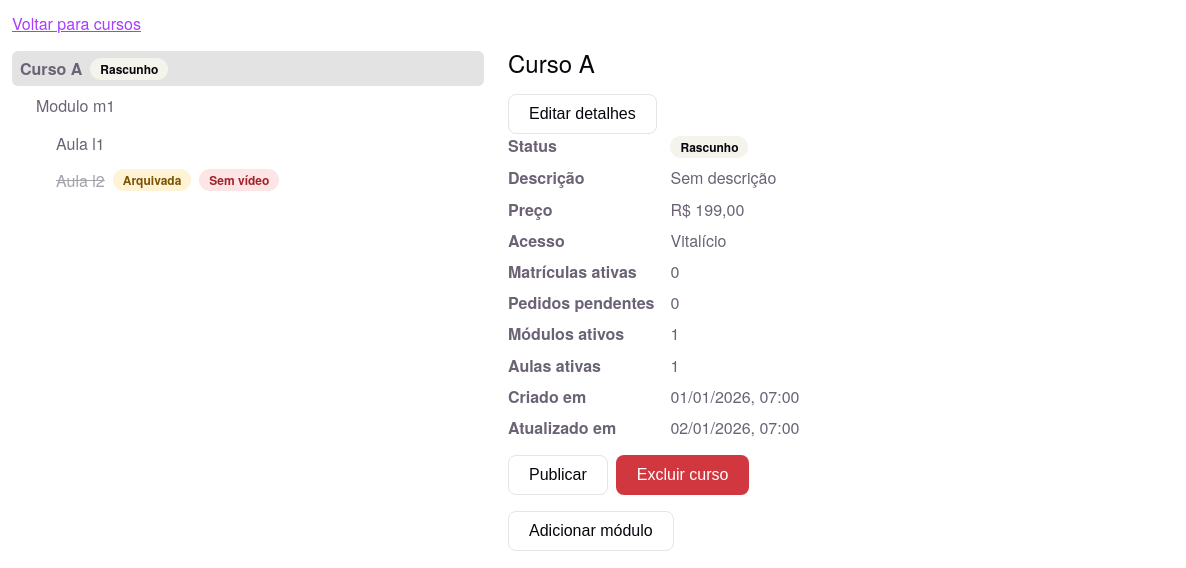
Test: lesson video action › offers "Substituir vídeo" when the lesson has a video and "Definir vídeo" when it has none
Click the list item "Aula l1" at (80, 143), box [56,132,105,155]
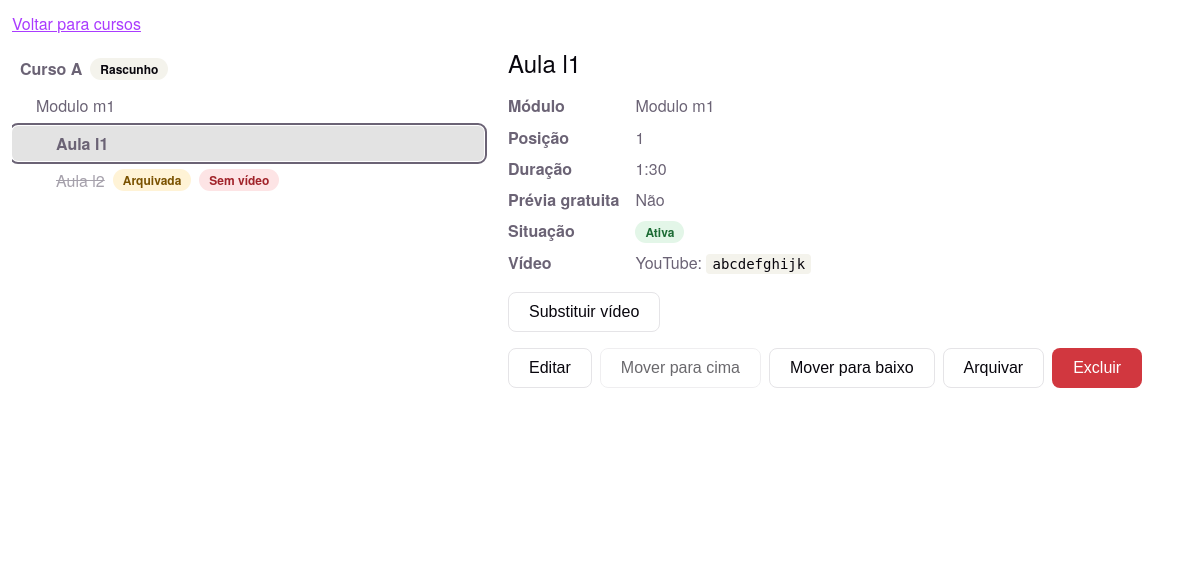
Expected: the button "Substituir vídeo" is shown, [508,292,660,332]
Click the list item "Aula l2 Arquivada Sem vídeo" at (168, 180), box [56,169,279,192]
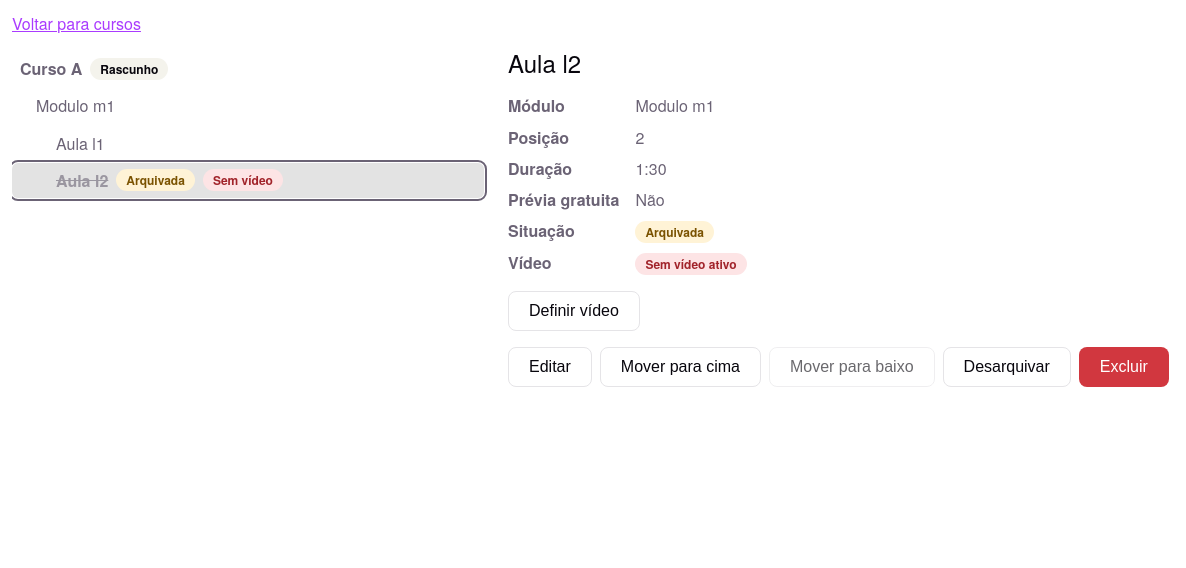
Expected: the button "Definir vídeo" is shown, [508,291,640,331]
